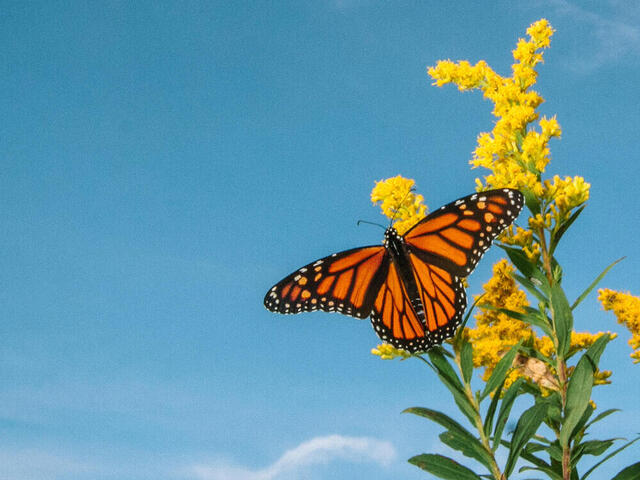Butterfly: (263, 184, 521, 352)
